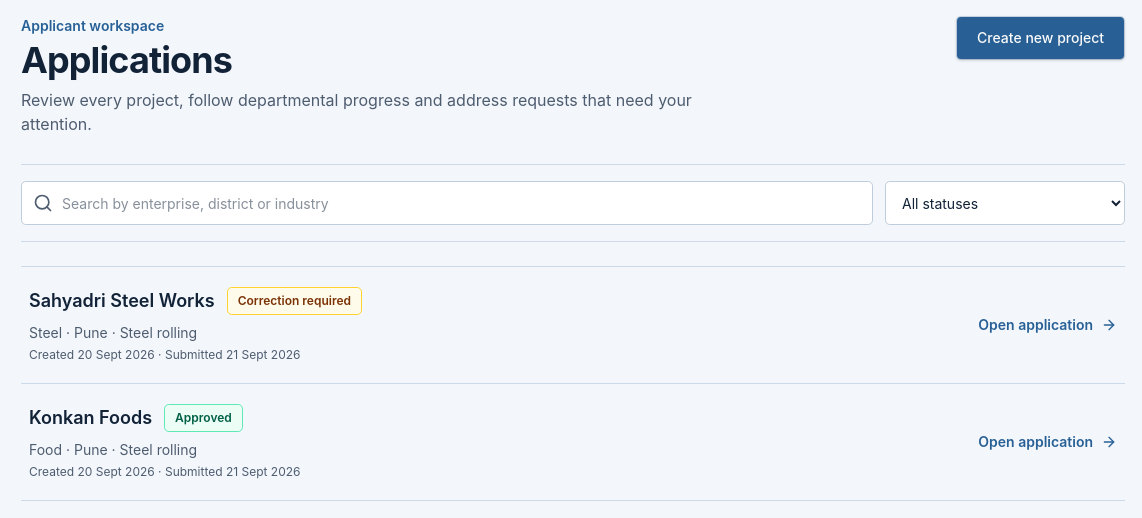
Test: applicant application workspace › filters the application list and links to project details
The image size is (1142, 518).
Expected: the heading "Sahyadri Steel Works" is shown, [29,287,215,315]
Step 1. Type "Konkan" into the field with placeholder "Search by enterprise, district or industry" → (447, 203), box [21,181,873,225]
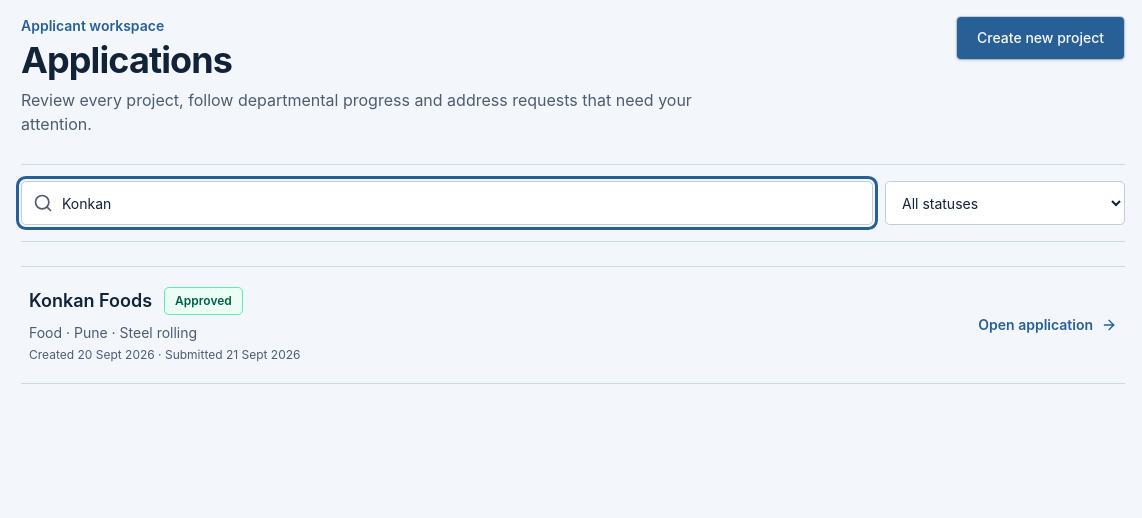
Result: the link "Sahyadri Steel Works" is gone
